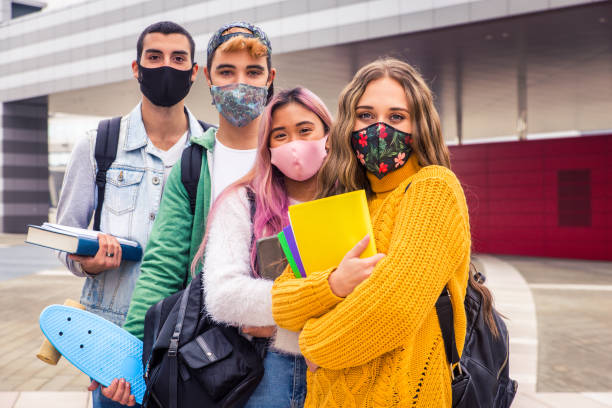with mask: (346, 58, 423, 179), (261, 74, 338, 195), (204, 20, 283, 128), (121, 14, 200, 114)
